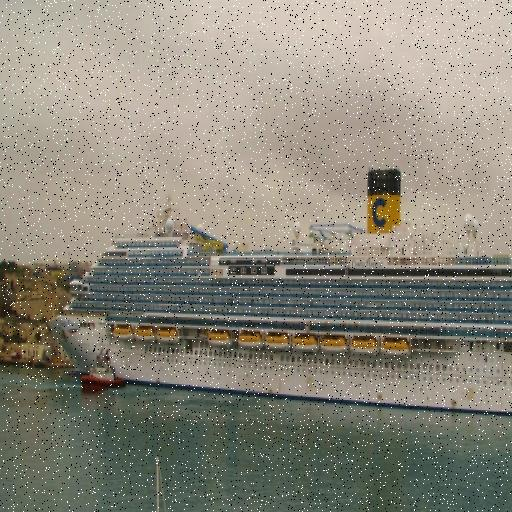cruises: (42, 164, 512, 437)
